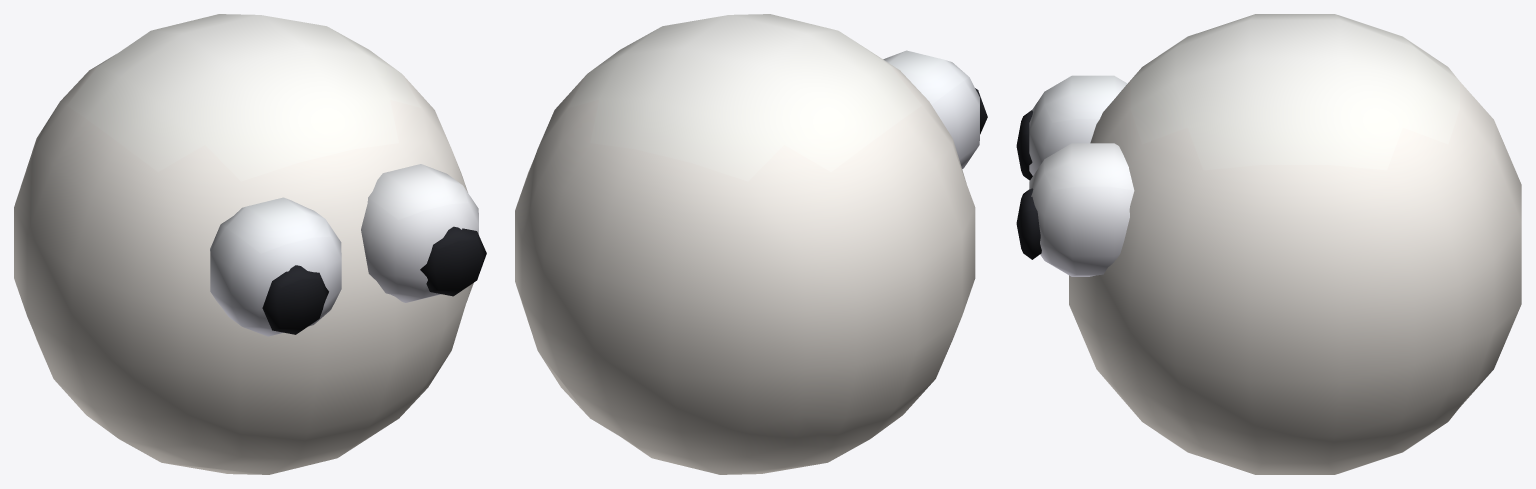
File: BallValley_Kit_Ball_Medium.fbx
3 views of the same model, side by side, from view 1: azimuth 30°, elevation 25°; view 2: azimuth 150°, elevation 25°; view 3: azimuth 270°, elevation 25° (orthographic).
Visible parts, largest first — view 1: BallValley_Kit_Ball_Medium; view 2: BallValley_Kit_Ball_Medium; view 3: BallValley_Kit_Ball_Medium.
Part boxes in pixels (x1,y1,x2,y2): BallValley_Kit_Ball_Medium: [14, 14, 486, 474]; BallValley_Kit_Ball_Medium: [515, 14, 987, 474]; BallValley_Kit_Ball_Medium: [1016, 14, 1521, 474].
Bounding box in the file's own units: 2.31 × 2.31 × 2.58.
